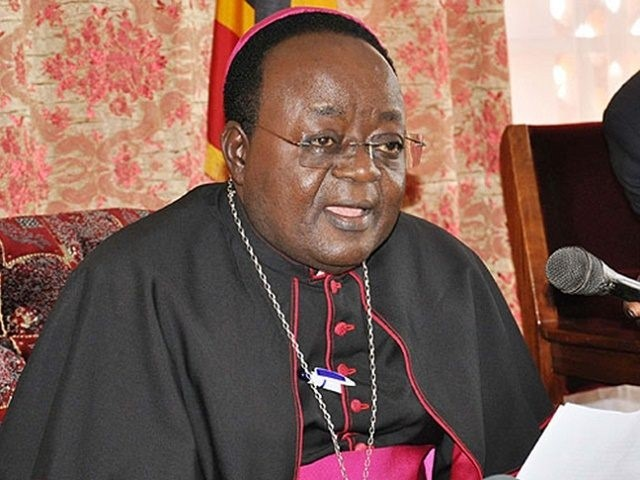face_no_mask: (228, 17, 407, 266)
